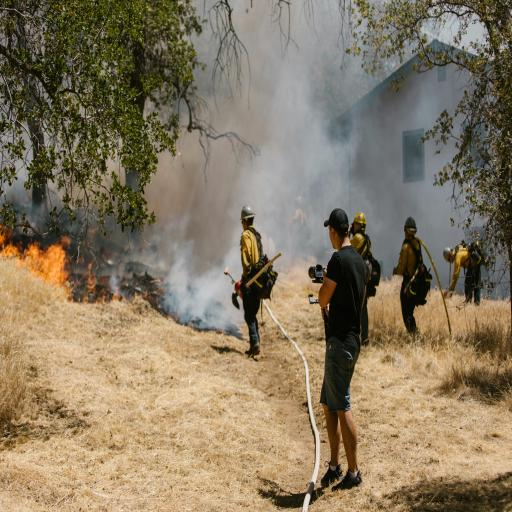smoke: (161, 0, 333, 306)
wildfire: (0, 166, 97, 313)
